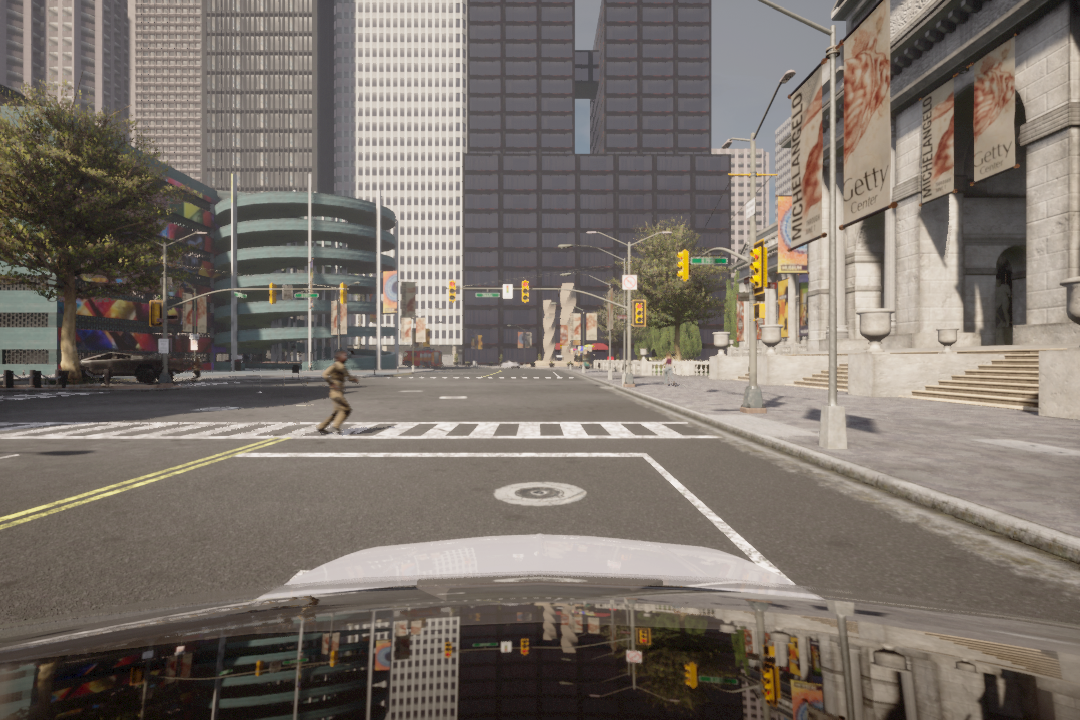TrafficLight: (747, 242, 767, 291), (677, 247, 694, 287), (633, 299, 646, 331), (518, 275, 528, 301), (448, 277, 457, 304)
TrafficSign: (621, 274, 639, 290)
walkside: (1, 418, 730, 449)
